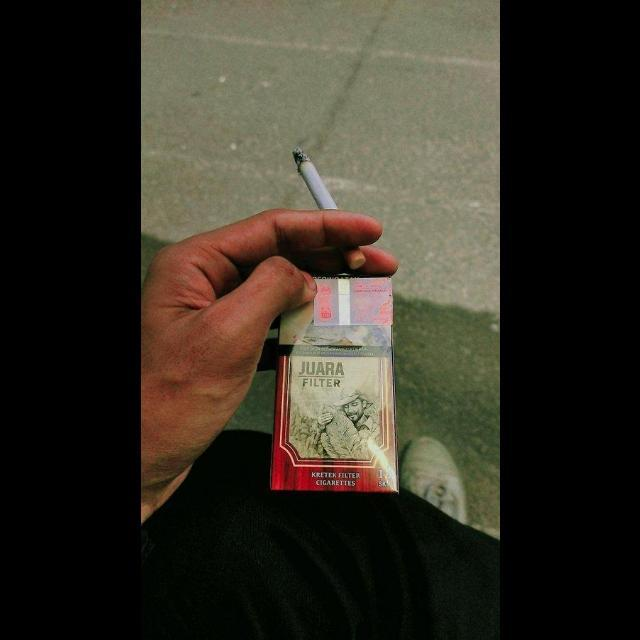rokok: (288, 142, 366, 274)
